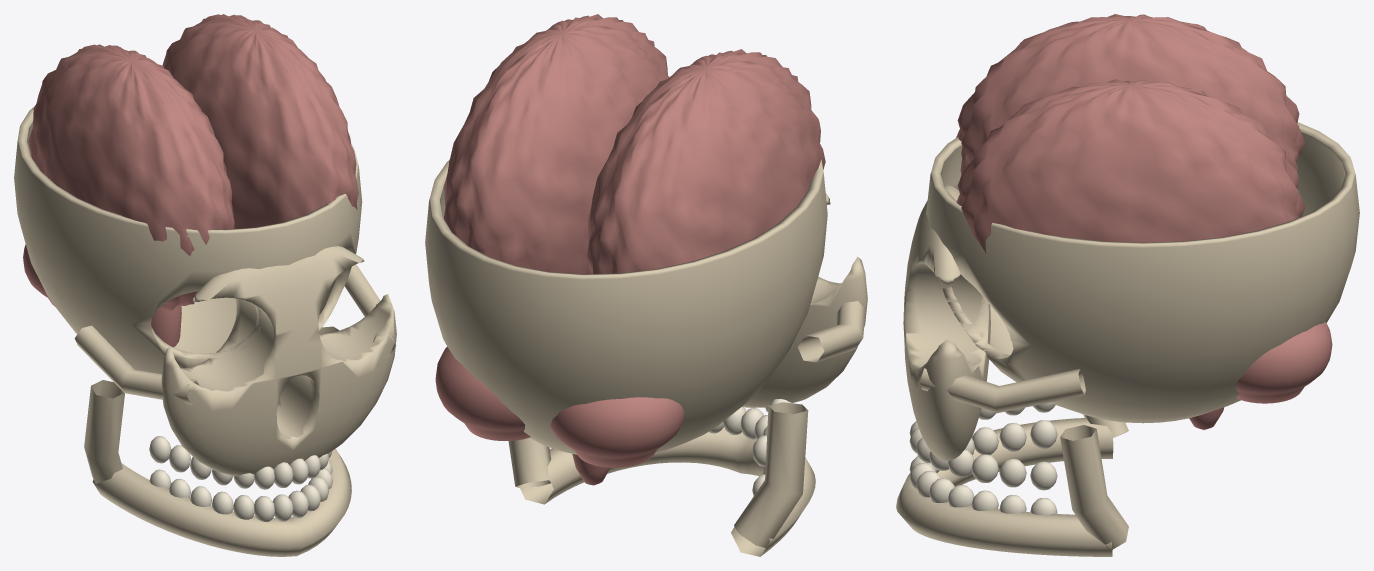
File: lab-head-internal-v2-normal.glb
3 renders of one model, left to right at view 1: azimuth 30°, elevation 25°; view 2: azimuth 150°, elevation 25°; view 3: azimuth 270°, elevation 25°, orthographic. The views are drawn at different scales.
Visible parts, largest first — view 1: part-skull-structures, part-brain-structures, part-skull-structures.001; view 2: part-brain-structures, part-skull-structures, part-skull-structures.001; view 3: part-skull-structures, part-brain-structures, part-skull-structures.001.
Part boxes in pixels (box(x1,y1,x2,y2)): part-skull-structures: box(14, 106, 396, 556); part-brain-structures: box(23, 14, 358, 347); part-skull-structures.001: box(149, 436, 332, 521); part-brain-structures: box(435, 14, 825, 485); part-skull-structures: box(425, 159, 867, 556); part-skull-structures.001: box(709, 399, 791, 495); part-skull-structures: box(896, 122, 1359, 556); part-brain-structures: box(956, 14, 1332, 429); part-skull-structures.001: box(909, 402, 1057, 515).
Bounding box in the file's own units: 9.32 × 13.63 × 12.19.
